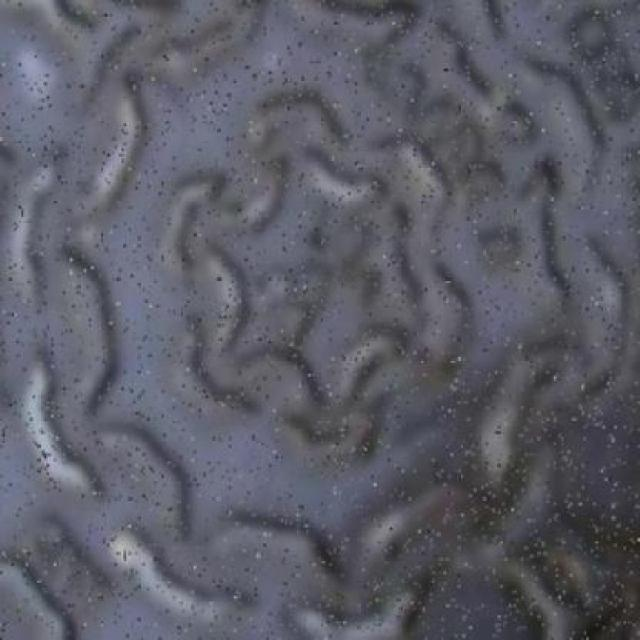Manhole: (4, 12, 638, 634)
